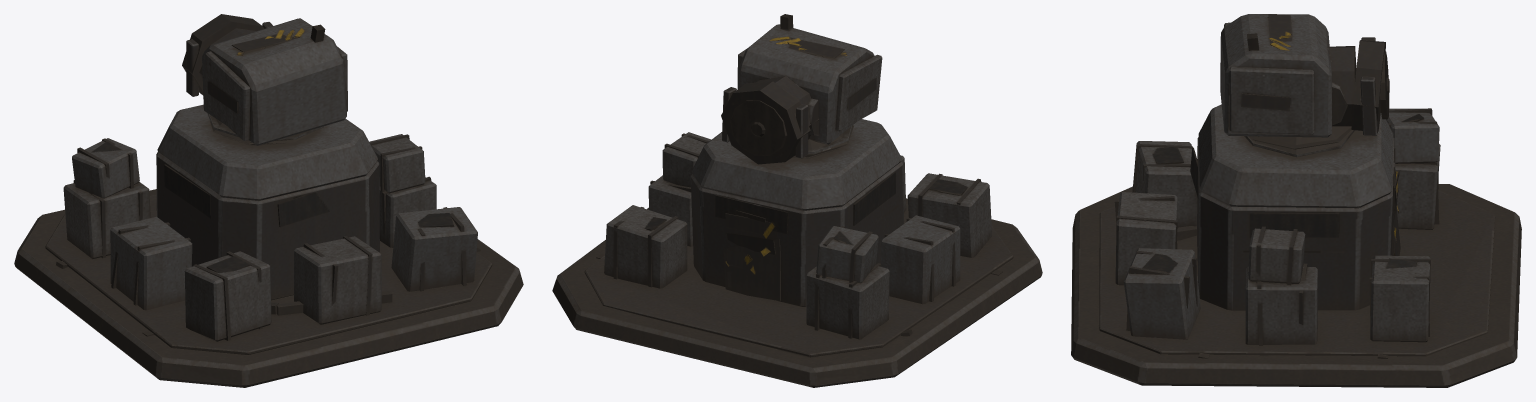
File: chs_nano_wreck.fbx
3 views of the same model, side by side, from view 1: azimuth 30°, elevation 25°; view 2: azimuth 150°, elevation 25°; view 3: azimuth 270°, elevation 25° (orthographic). The views are drawn at different scales.
Visible parts, largest first — view 1: base_bar, turret_bar, nano_bar; view 2: base_bar, turret_bar, nano_bar; view 3: base_bar, turret_bar, nano_bar.
Part boxes in pixels (box(x1,y1,x2,y2)): base_bar: box(14, 104, 523, 387); turret_bar: box(202, 18, 347, 145); nano_bar: box(182, 14, 272, 96); base_bar: box(552, 119, 1042, 387); turret_bar: box(737, 14, 882, 157); nano_bar: box(721, 76, 819, 164); base_bar: box(1071, 104, 1521, 387); turret_bar: box(1220, 14, 1354, 157); nano_bar: box(1327, 37, 1389, 135).
Size of the model in its own units: 1567 by 1261 by 1569.
Materials: 2 (2 with a texture image).
